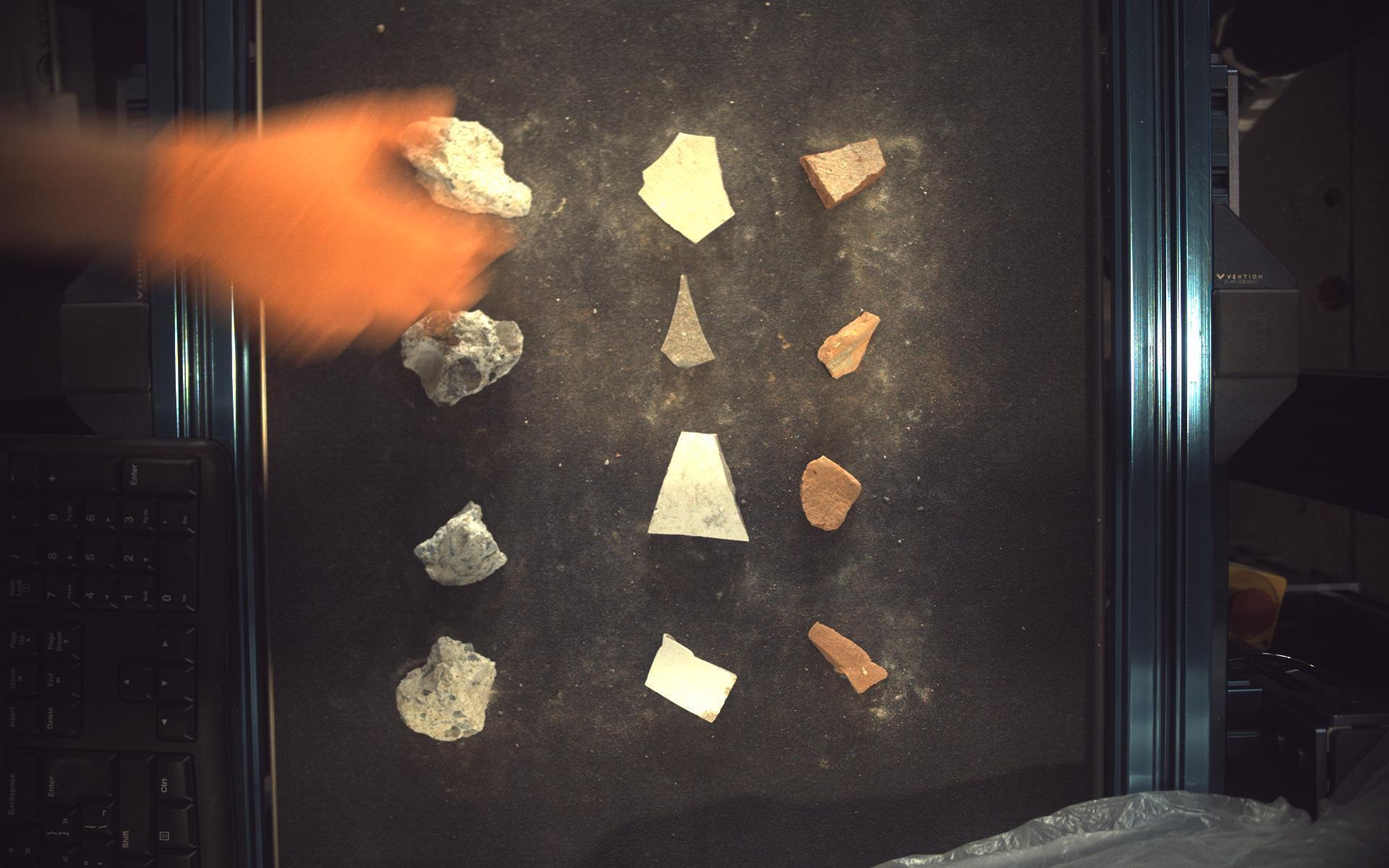brick: (802, 137, 888, 208), (810, 623, 890, 695), (802, 456, 863, 532), (820, 312, 882, 378)
concrete: (400, 116, 532, 218), (401, 310, 524, 406), (396, 638, 496, 742), (414, 502, 507, 587)
tile: (650, 433, 749, 542), (640, 132, 736, 242), (647, 634, 737, 723), (662, 274, 715, 367)
